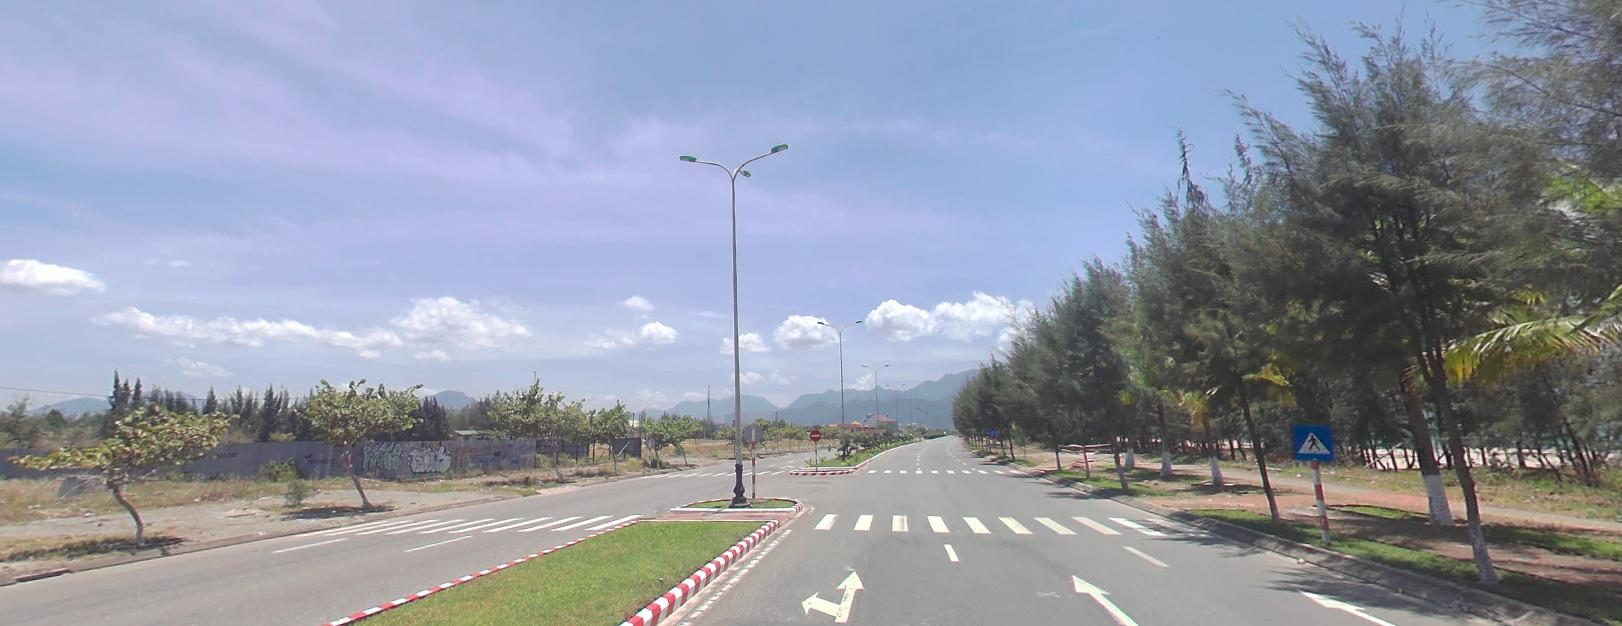Cam nguoc chieu: (809, 428, 821, 439)
